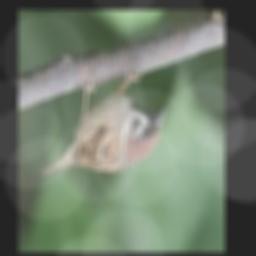Sparrow: (40, 70, 165, 175)
